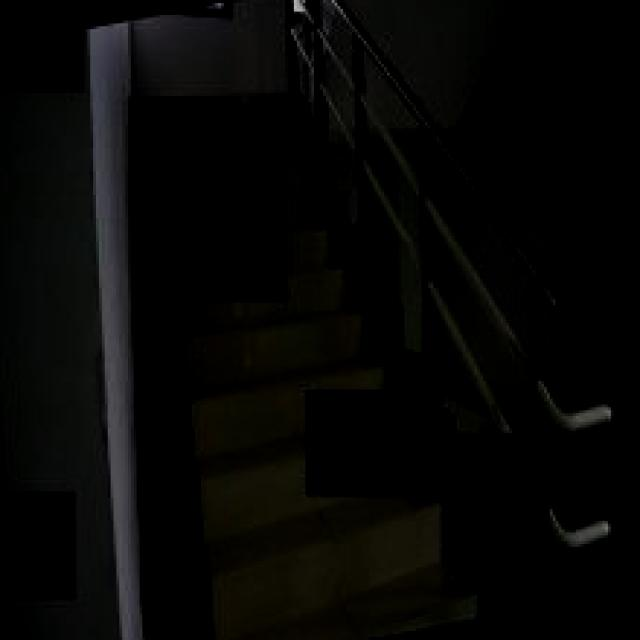upstair: (135, 318, 303, 638)
